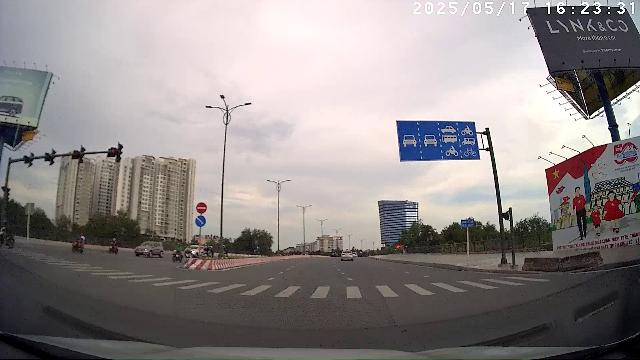102-cam-di-nguoc-chieu: (196, 202, 207, 214)
302a-huong-phai-di-vong-chuong-ngai-vat-1: (195, 215, 206, 227)
